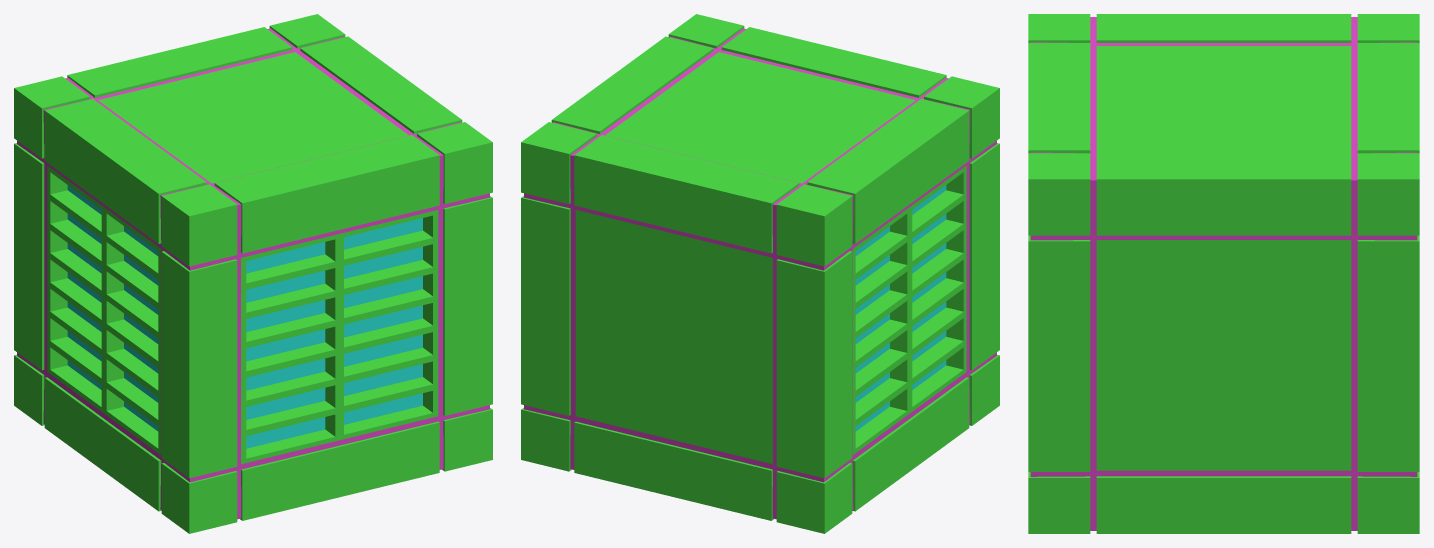
File: Vent_13_A_Corner.fbx
3 renders of one model, left to right at view 1: azimuth 30°, elevation 25°; view 2: azimuth 150°, elevation 25°; view 3: azimuth 270°, elevation 25°, orthographic. The views are drawn at different scales.
Visible parts, largest first — view 1: Vent_13_A_Corner; view 2: Vent_13_A_Corner; view 3: Vent_13_A_Corner.
Part boxes in pixels (x1,y1,x2,y2): Vent_13_A_Corner: [14, 14, 492, 533]; Vent_13_A_Corner: [521, 14, 999, 533]; Vent_13_A_Corner: [1028, 14, 1419, 533].
Size of the model in its own units: 91.44 by 91.44 by 91.44.
